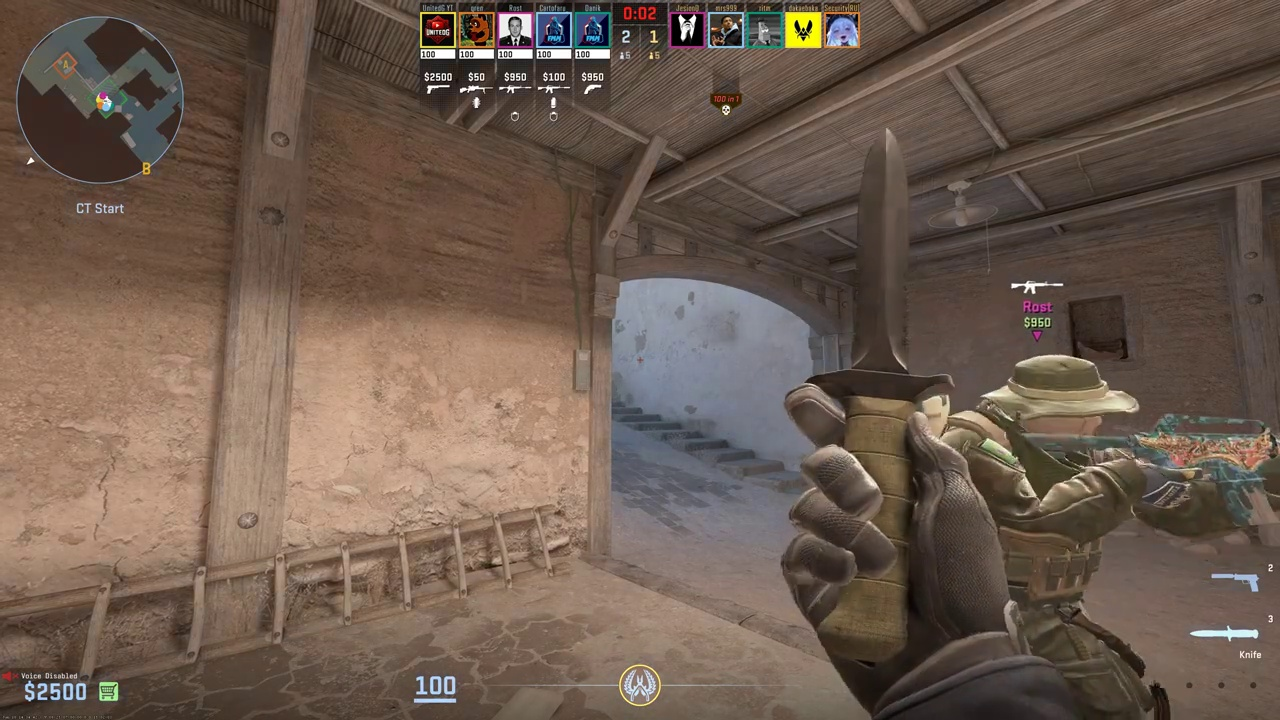CT: (938, 352, 1160, 713)
